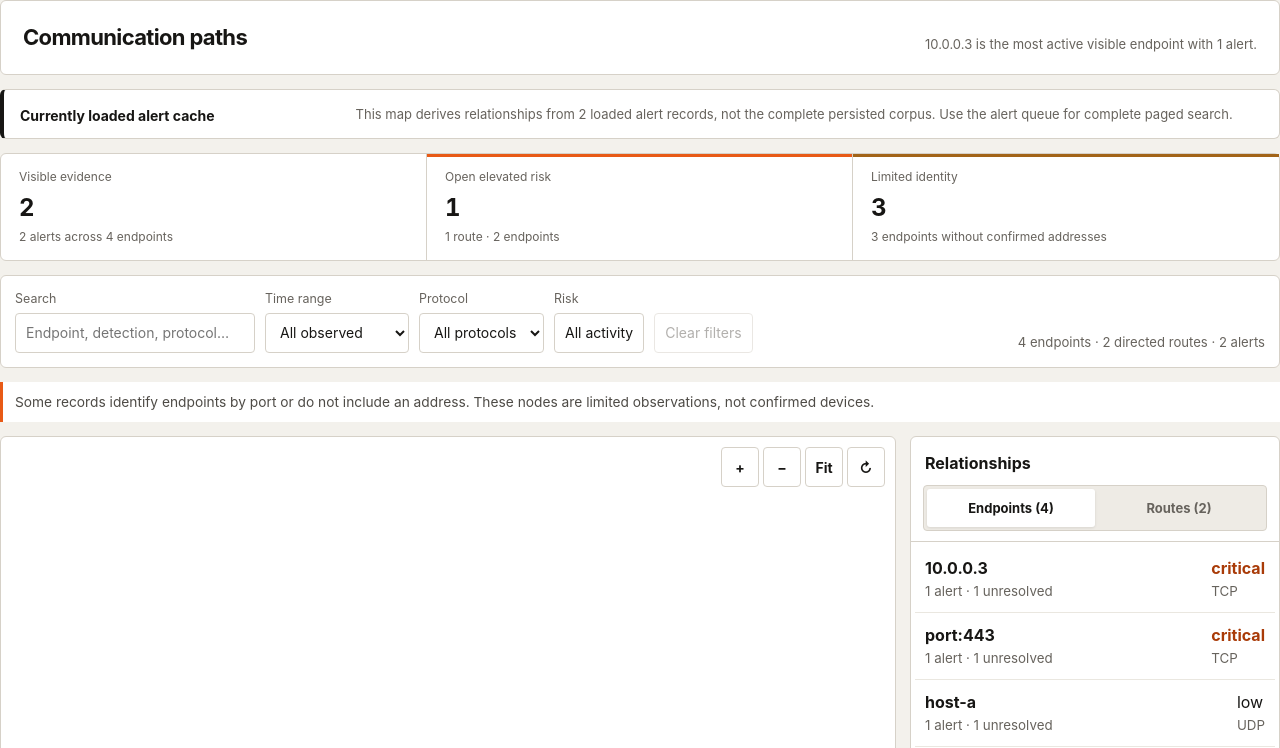
TopologyWorkspace › filters by protocol and elevated unresolved activity
The image size is (1280, 748).
Select "UDP" in the dropdown labelled "Protocol" at (482, 333), box [419,313,544,353]
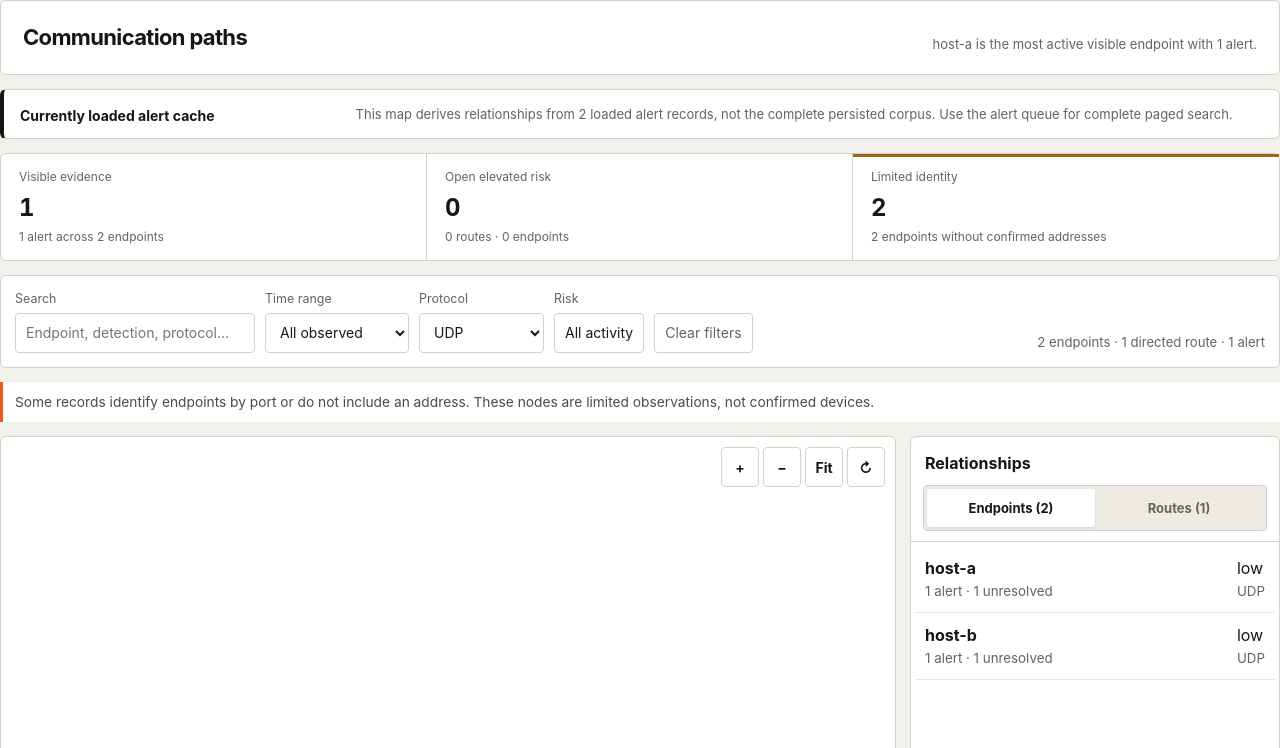
Check: the text "2 endpoints · 1 directed route · 1 alert" is shown, box [1037,333,1265,353]
Click the button "All activity" at (599, 333), box [554,313,644,353]
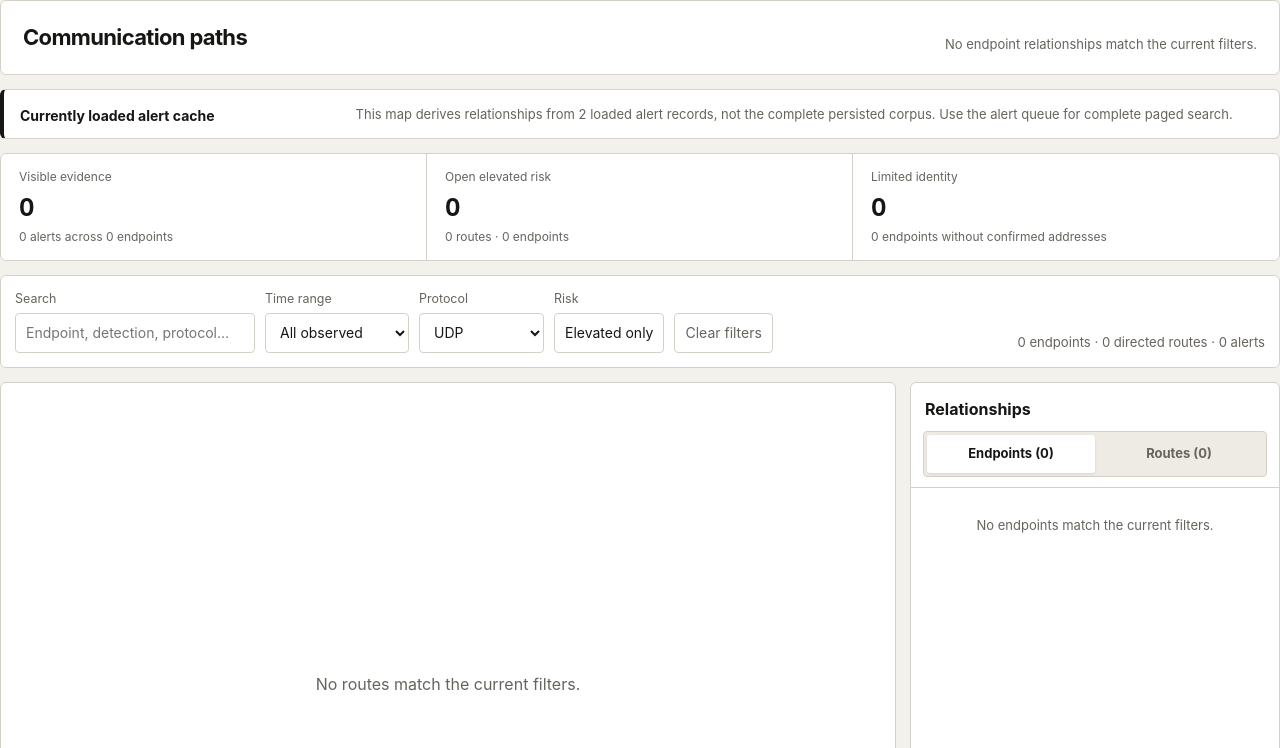
Check: the text "0 endpoints · 0 directed routes · 0 alerts" is shown, box [1018,333,1265,353]
Click the button "Clear filters" at (724, 333), box [674,313,773,353]
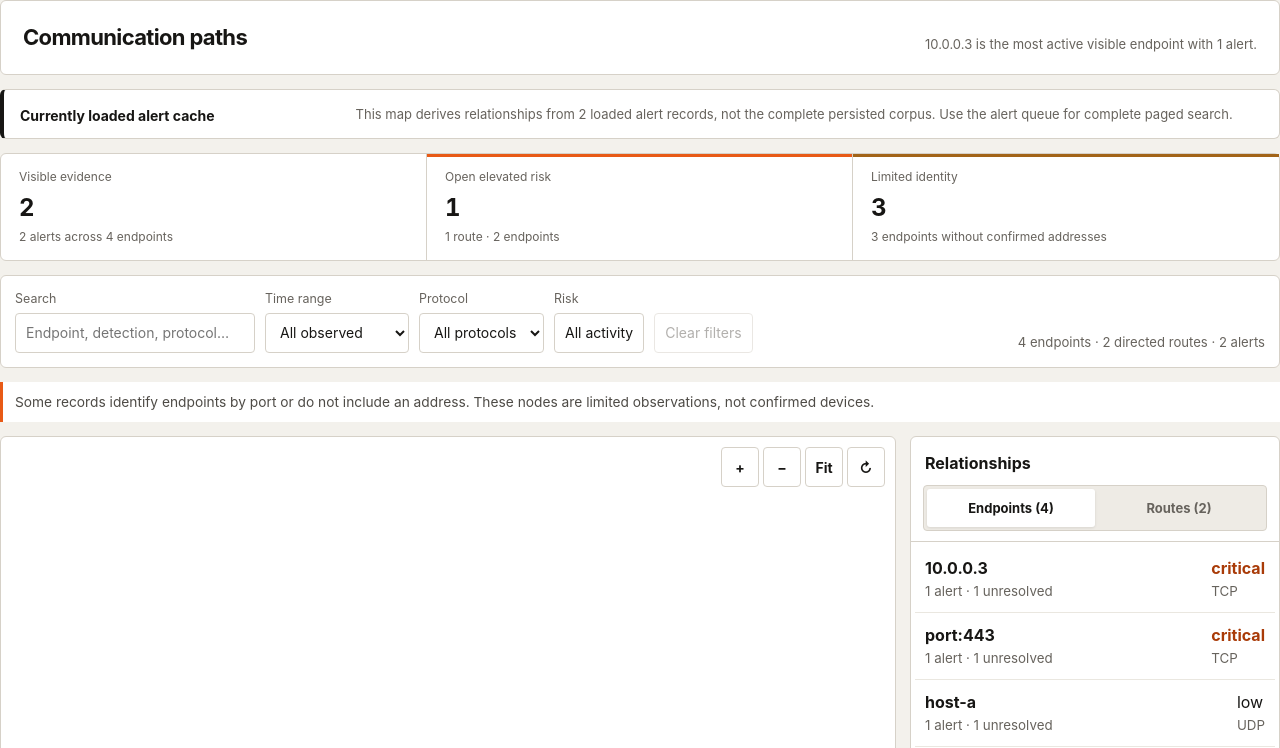
Check: the text "4 endpoints · 2 directed routes · 2 alerts" is shown, box [1018,333,1265,353]
Check: the button "Clear filters" is disabled, box [654,313,753,353]
